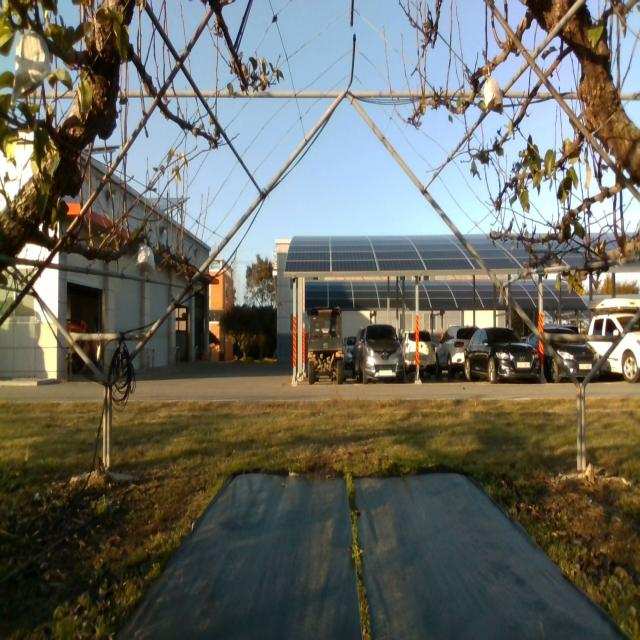pearbags: (10, 23, 50, 105), (484, 66, 504, 115), (134, 238, 156, 278)
